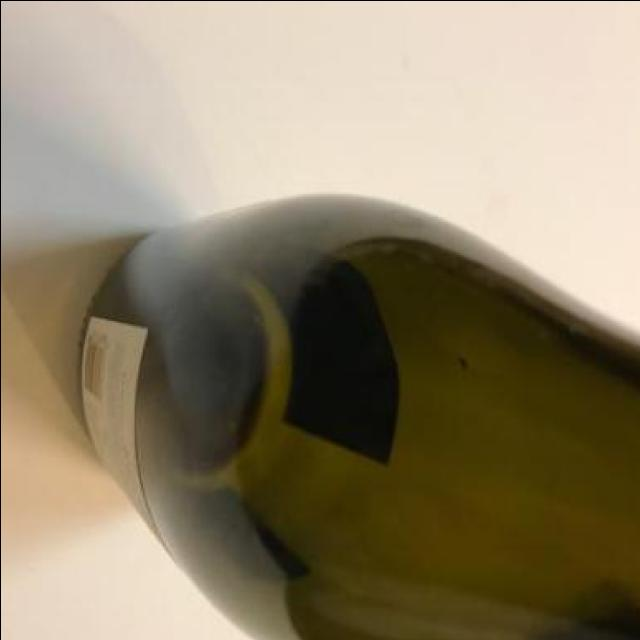kaca: (78, 189, 640, 640)
